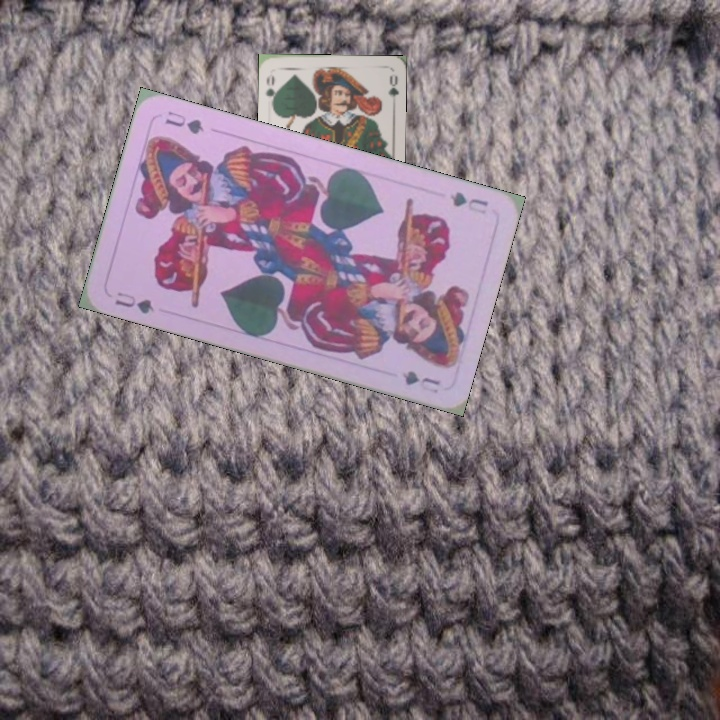GO: (262, 70, 281, 109)
GU: (445, 187, 491, 217), (111, 288, 157, 316)
